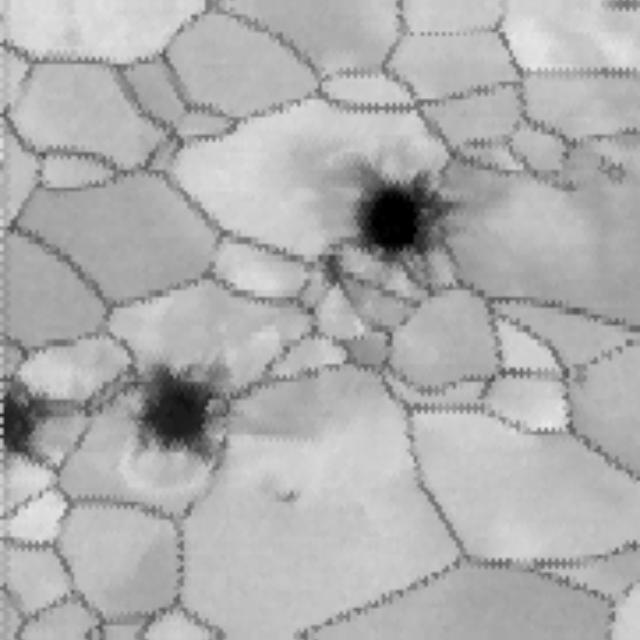good_void: (340, 157, 473, 269), (124, 350, 237, 458), (0, 372, 45, 460), (248, 474, 302, 516), (314, 250, 350, 290), (591, 153, 631, 187)
